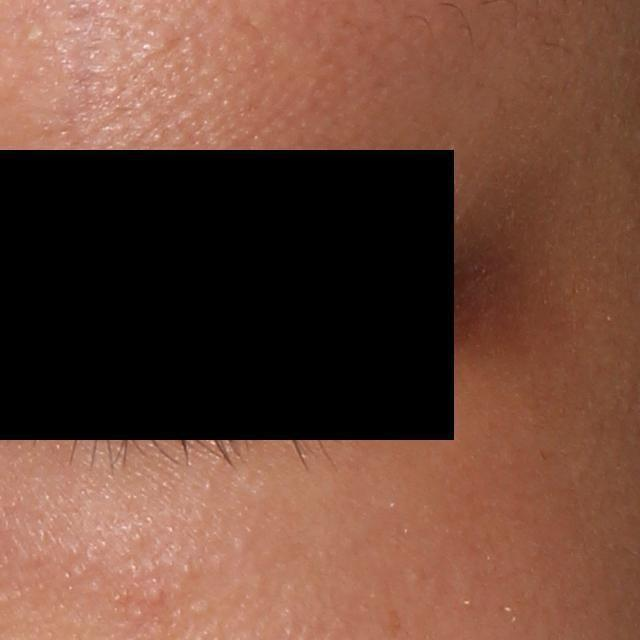comedo: (147, 584, 168, 606)
